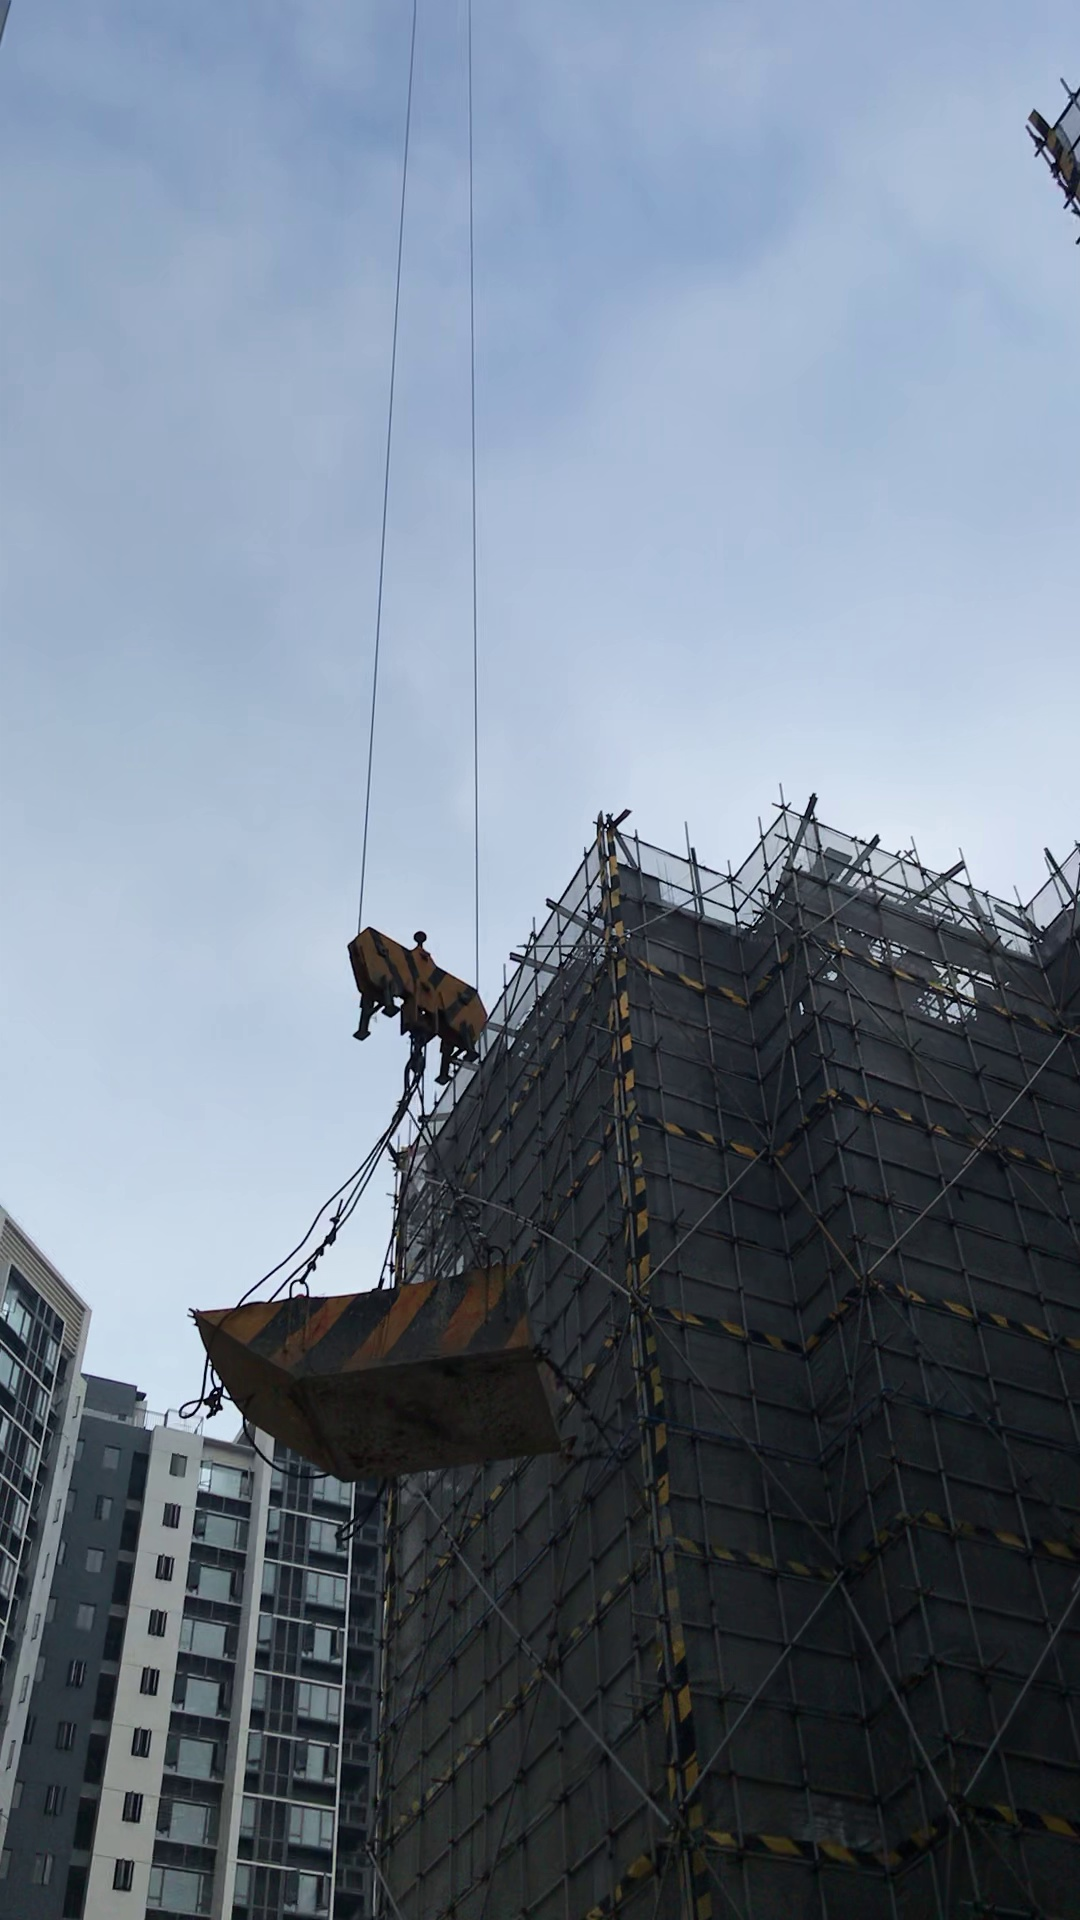hook: (336, 922, 491, 1073)
